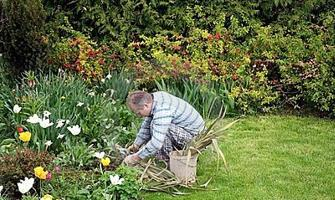person: (124, 90, 209, 167)
